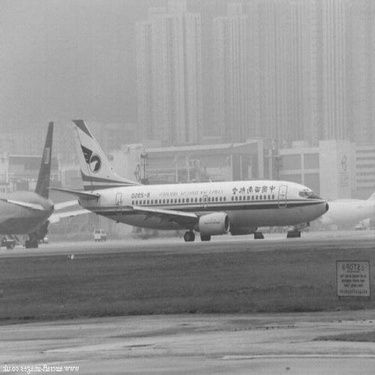airplane: (38, 95, 335, 259), (1, 115, 87, 258), (301, 184, 370, 233)
